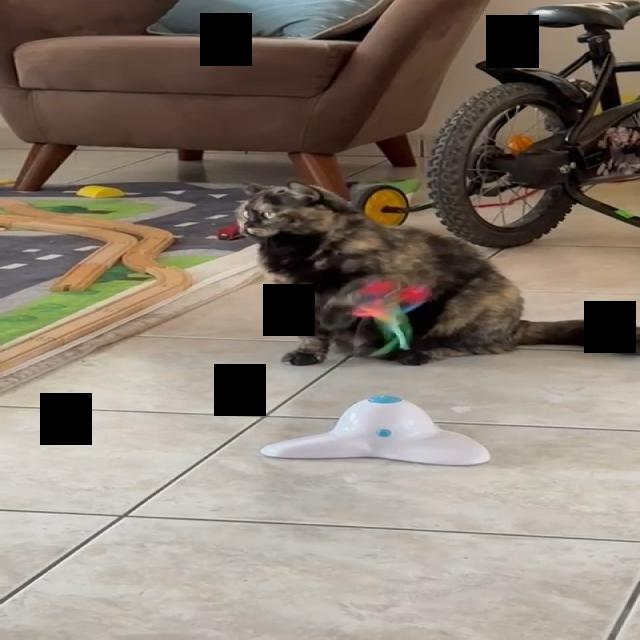authorized: (232, 180, 639, 366)
